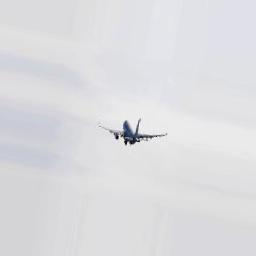Airplane: (96, 117, 169, 146)
